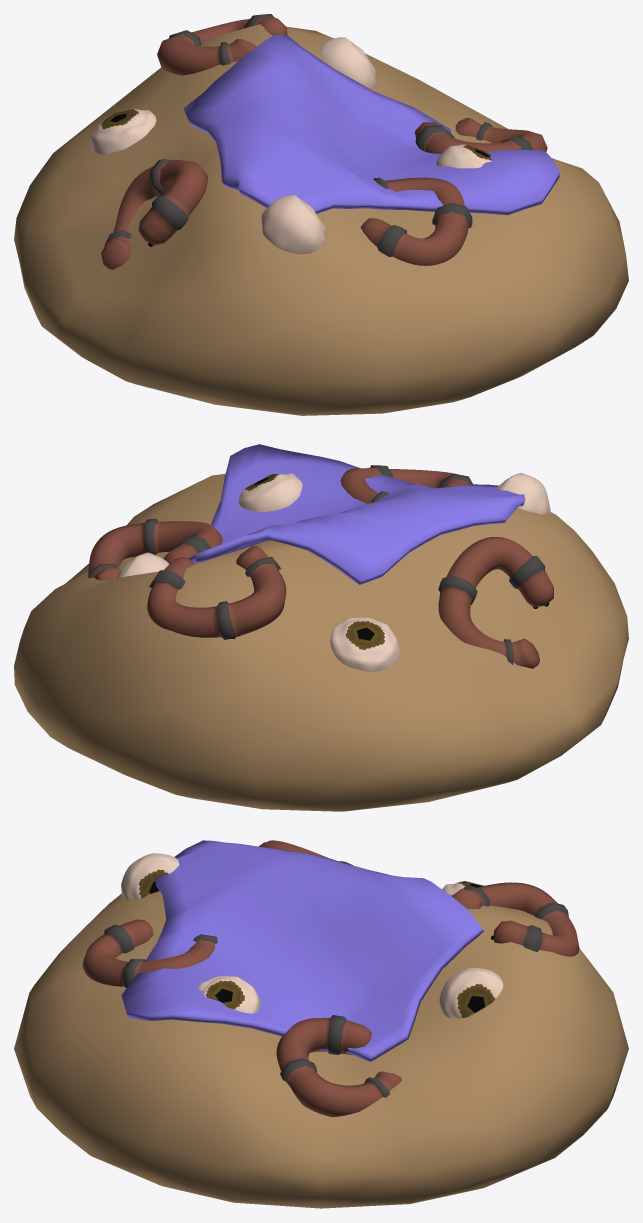
File: gruel_complete.fbx
3 renders of one model, top to bottom at view 1: azimuth 30°, elevation 25°; view 2: azimuth 150°, elevation 25°; view 3: azimuth 270°, elevation 25°, orthographic. The views are drawn at different scales.
Visible parts, largest first — view 1: Gruel, Syrup, Worms, Eyeballs; view 2: Gruel, Syrup, Worms, Eyeballs; view 3: Gruel, Syrup, Worms, Eyeballs.
Part boxes in pixels (<box>): Gruel: <box>14,24,628,415</box>; Syrup: <box>183,34,559,215</box>; Worms: <box>101,14,547,269</box>; Eyeballs: <box>90,37,492,254</box>; Gruel: <box>14,473,628,811</box>; Syrup: <box>187,444,525,584</box>; Worms: <box>88,465,553,668</box>; Eyeballs: <box>117,472,550,672</box>; Gruel: <box>14,891,628,1208</box>; Syrup: <box>121,840,483,1061</box>; Worms: <box>82,840,579,1117</box>; Eyeballs: <box>121,853,503,1018</box>.
Bounding box in the file's own units: 179 × 73.61 × 185.
